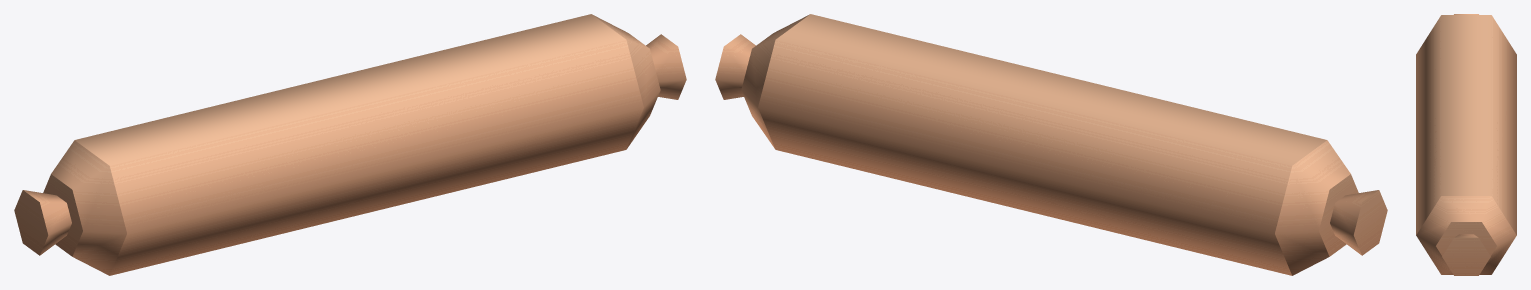
Rendered from hot-dog-raw.glb.
The picture shows the model from 3 angles, left to right: view 1: azimuth 30°, elevation 25°; view 2: azimuth 150°, elevation 25°; view 3: azimuth 270°, elevation 25°; orthographic projection. The views are drawn at different scales.
Parts seen in each view (by area): view 1: hot-dog-raw; view 2: hot-dog-raw; view 3: hot-dog-raw.
Part boxes in pixels (x1,y1,x2,y2): hot-dog-raw: (14, 14, 686, 275); hot-dog-raw: (715, 14, 1387, 275); hot-dog-raw: (1416, 14, 1516, 275).
Bounding box in the file's own units: 0.5859 × 0.0966 × 0.1116.
Materials: 1 (1 with a texture image).
